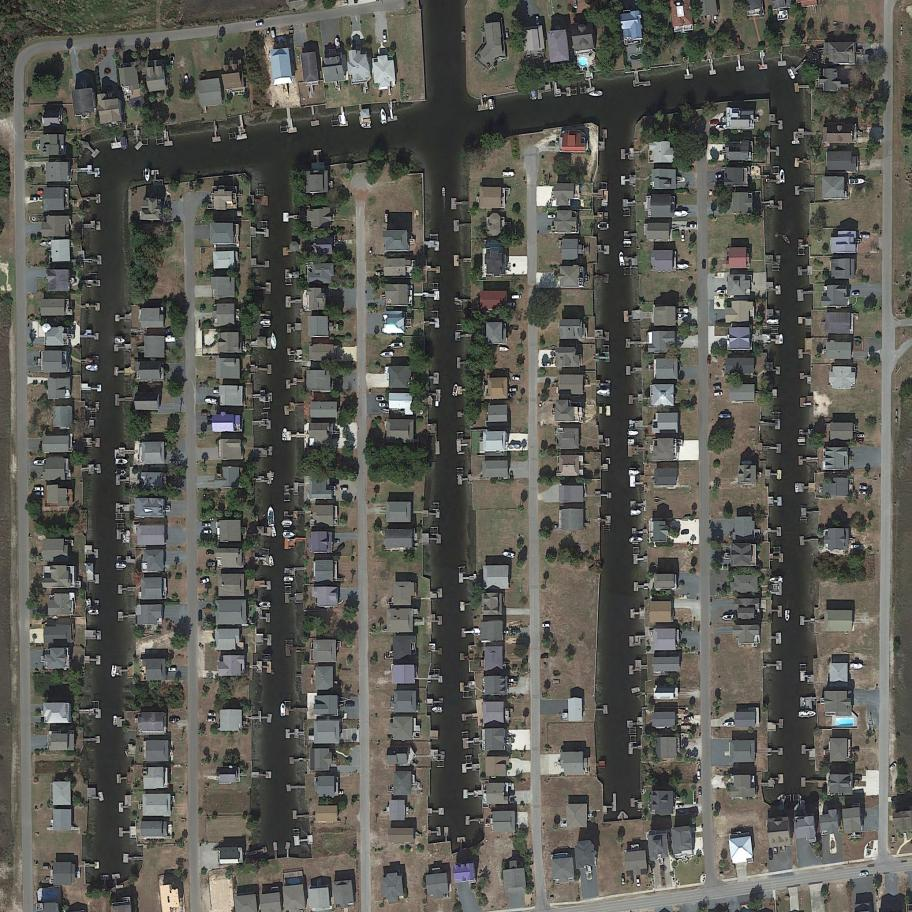ship: (848, 176, 866, 185), (798, 710, 816, 718), (267, 506, 274, 526), (676, 261, 691, 270), (781, 233, 792, 245), (619, 251, 627, 267), (380, 107, 387, 125), (502, 550, 515, 559), (787, 67, 796, 80), (271, 333, 277, 351), (452, 383, 460, 396), (628, 469, 642, 476), (721, 614, 735, 621), (281, 428, 288, 442), (114, 459, 128, 466), (85, 365, 99, 372), (630, 509, 642, 517), (848, 663, 864, 669), (587, 91, 603, 97), (379, 352, 395, 358), (722, 720, 735, 727), (676, 307, 689, 314), (677, 312, 690, 319), (714, 124, 727, 131), (488, 98, 495, 111), (766, 319, 779, 326), (204, 398, 217, 405), (334, 37, 341, 50), (259, 319, 272, 326), (674, 211, 689, 217), (111, 665, 118, 677), (716, 289, 728, 296), (389, 342, 403, 348), (145, 168, 151, 182), (719, 413, 732, 419), (258, 602, 271, 608), (785, 610, 791, 623), (284, 531, 295, 538), (629, 538, 644, 543), (280, 703, 285, 718), (769, 578, 784, 583), (498, 346, 510, 352), (33, 460, 45, 466), (115, 469, 127, 475), (40, 241, 52, 247), (780, 169, 785, 183), (283, 577, 294, 583), (269, 555, 275, 566), (271, 526, 277, 537), (597, 390, 610, 395), (87, 610, 100, 615), (502, 172, 514, 177), (431, 707, 443, 712), (628, 430, 639, 435), (598, 224, 609, 229), (778, 334, 783, 345), (281, 521, 292, 526), (114, 338, 125, 343), (361, 123, 372, 128), (113, 716, 118, 726), (442, 186, 446, 196), (795, 483, 799, 493), (791, 140, 800, 144)
small-vehicle: (198, 576, 210, 585), (168, 56, 175, 70), (184, 74, 191, 87), (888, 762, 897, 772), (768, 847, 774, 860), (858, 234, 871, 240), (382, 30, 388, 43), (713, 391, 724, 398), (512, 375, 521, 382), (546, 214, 556, 220), (687, 223, 697, 229), (330, 538, 340, 544), (32, 487, 44, 492), (169, 718, 180, 723), (540, 653, 549, 659), (859, 484, 868, 490), (621, 875, 626, 885), (698, 787, 703, 797), (206, 562, 216, 567), (345, 702, 355, 707), (198, 610, 202, 622), (712, 385, 721, 390), (676, 803, 685, 808), (856, 432, 865, 437), (505, 29, 510, 38), (535, 15, 540, 24), (203, 530, 212, 535), (375, 271, 384, 276), (511, 295, 522, 299), (681, 230, 685, 241), (636, 875, 640, 886), (29, 197, 40, 201), (206, 718, 216, 722), (631, 875, 635, 885), (697, 770, 701, 780), (852, 292, 860, 297), (168, 667, 176, 672), (376, 396, 384, 401), (255, 21, 263, 26), (707, 356, 711, 365), (702, 261, 706, 270), (858, 491, 867, 495), (206, 549, 215, 553), (202, 523, 211, 527), (509, 388, 516, 393), (774, 844, 777, 855), (208, 712, 216, 716), (542, 624, 550, 628), (860, 872, 868, 876), (378, 403, 386, 407), (339, 487, 348, 490), (508, 303, 516, 306)
